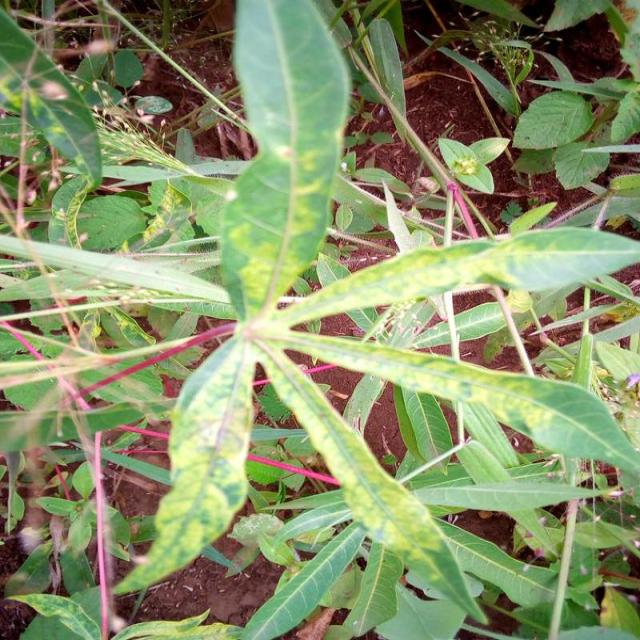cassava leaf: (2, 0, 638, 638), (217, 0, 352, 325)
